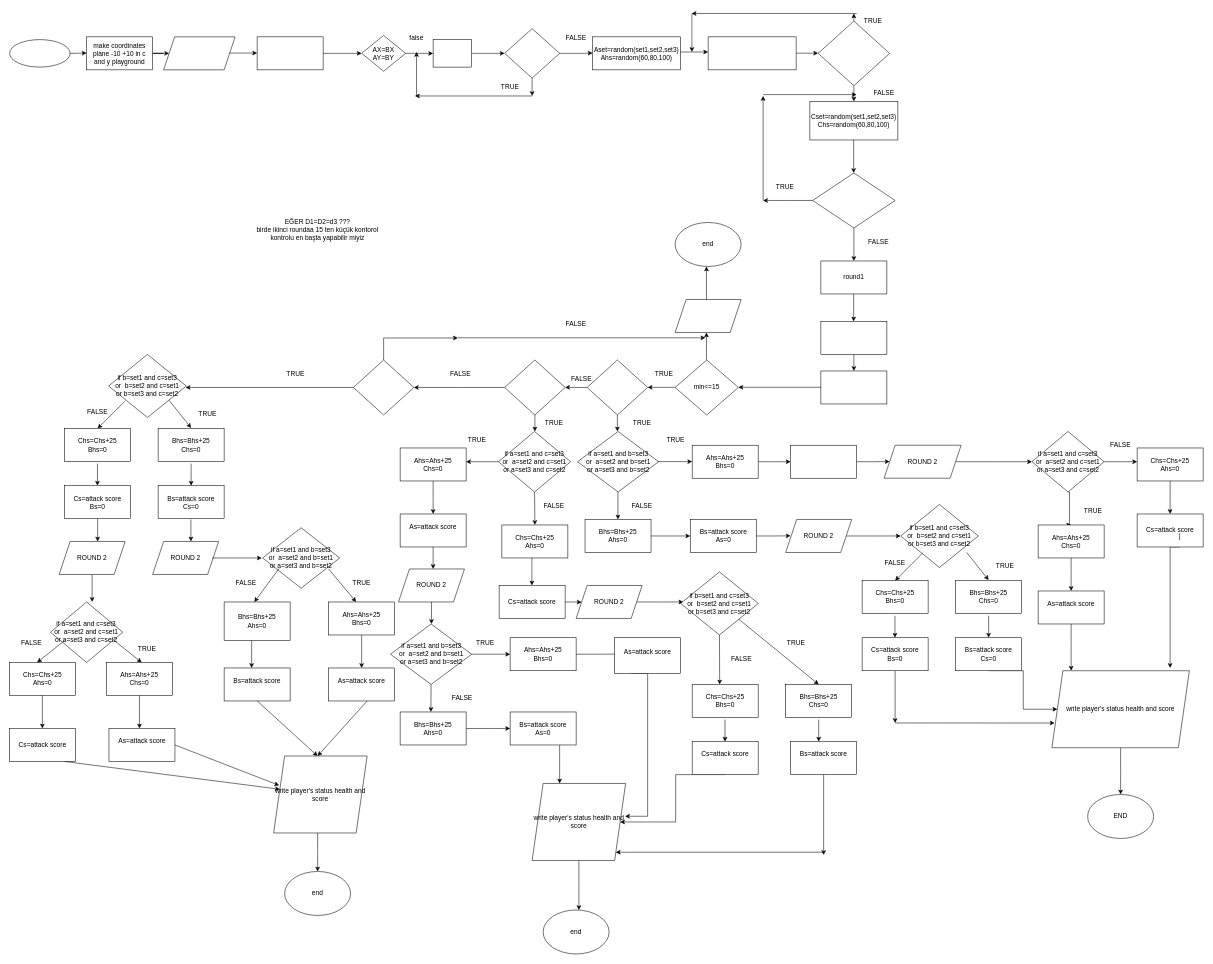
Image size: 1213x964. Some labels were removed from this diagram. The box of each missing label's shape, as (x1, y1, x2, y2) in pixels:
As=attack score Bs=0: (790, 445, 857, 478)
Aset=Bset or Ahs=Bhs: (818, 21, 890, 86)
AX=CX OR BX=CX AND AY=CY OR BY=CY: (504, 28, 560, 78)
Bset=Cset or Bhs=Chs: (812, 172, 895, 228)
Bset=random(set1,set2,set3) Bhs=random(60,80,100): (708, 36, 796, 70)
BX=random BY=random: (257, 36, 323, 70)
CX=random CY=random: (433, 39, 472, 67)
d1= a and b distance d2=a and c distance d3=b and c distance: (820, 321, 887, 354)
if min=d1: (587, 359, 648, 415)
if min=d2: (504, 359, 565, 415)
if min=d3: (353, 359, 414, 415)
min=min(d1,d2,d3): (820, 370, 887, 404)
read AX AY: (163, 36, 235, 70)
start: (9, 39, 70, 67)
write no attack: (675, 299, 741, 332)
